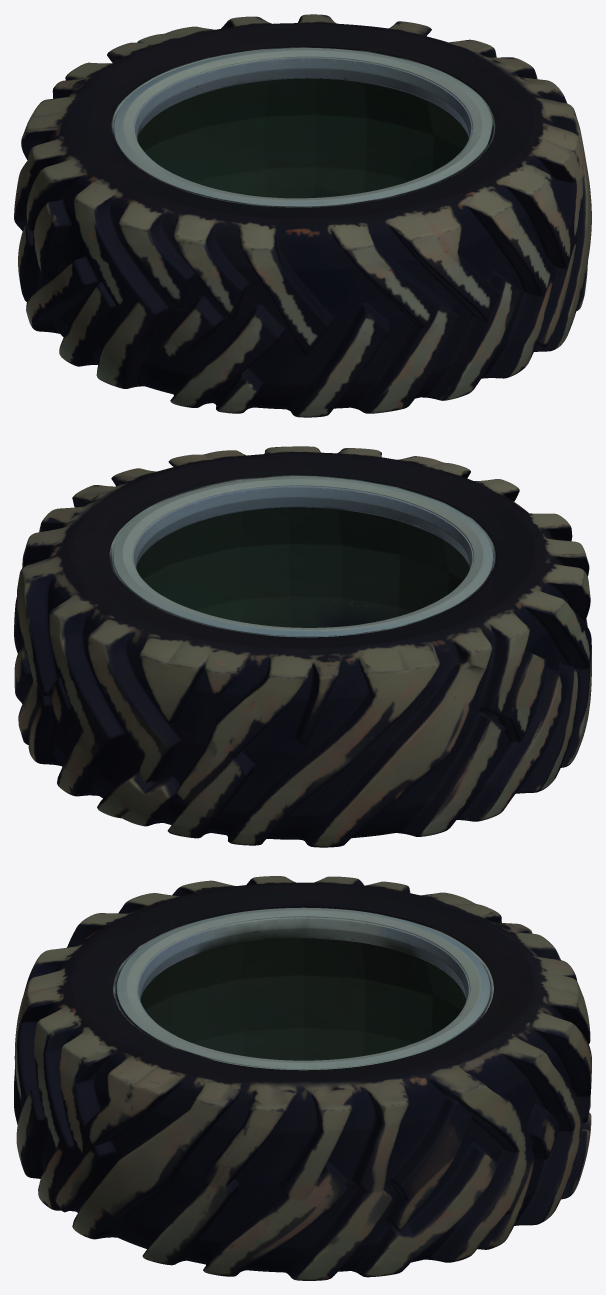
File: tractor_tire__hunyuan.glb
The picture shows the model from 3 angles, top to bottom: view 1: azimuth 30°, elevation 25°; view 2: azimuth 150°, elevation 25°; view 3: azimuth 270°, elevation 25°; orthographic projection.
Visible parts, largest first — view 1: material; view 2: material; view 3: material.
Part boxes in pixels (left/top/right/bottom): material: left=14, top=14, right=591, bottom=417; material: left=14, top=446, right=591, bottom=847; material: left=14, top=876, right=591, bottom=1280.
Size of the model in its own units: 1.16 by 0.4177 by 1.16.
Materials: 1 (1 with a texture image).
